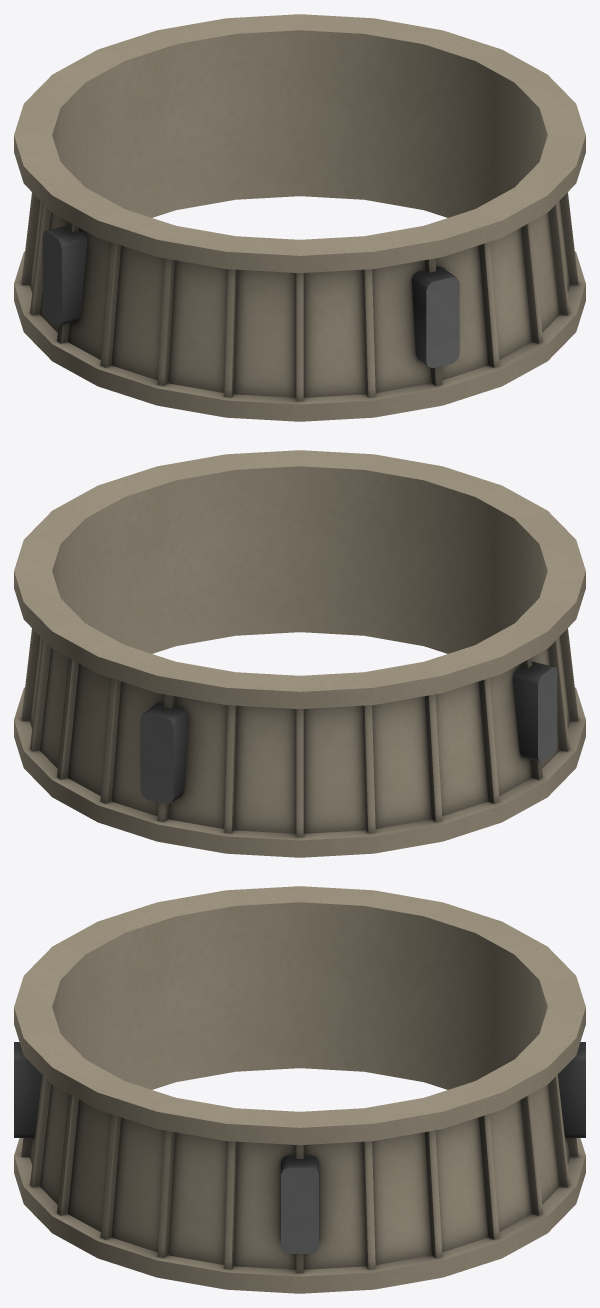
File: Alnair_Decoupler_1.obj
3 views of the same model, one above another, from view 1: azimuth 30°, elevation 25°; view 2: azimuth 150°, elevation 25°; view 3: azimuth 270°, elevation 25° (orthographic).
Visible parts, largest first — view 1: Alnair_Decoupler_1; view 2: Alnair_Decoupler_1; view 3: Alnair_Decoupler_1.
Boxes of the visible parts, x1,y1,x2,y2 form: Alnair_Decoupler_1: (14, 14, 585, 421); Alnair_Decoupler_1: (14, 450, 585, 857); Alnair_Decoupler_1: (14, 886, 585, 1293).
Size of the model in its own units: 1.88 by 0.6 by 1.88.
